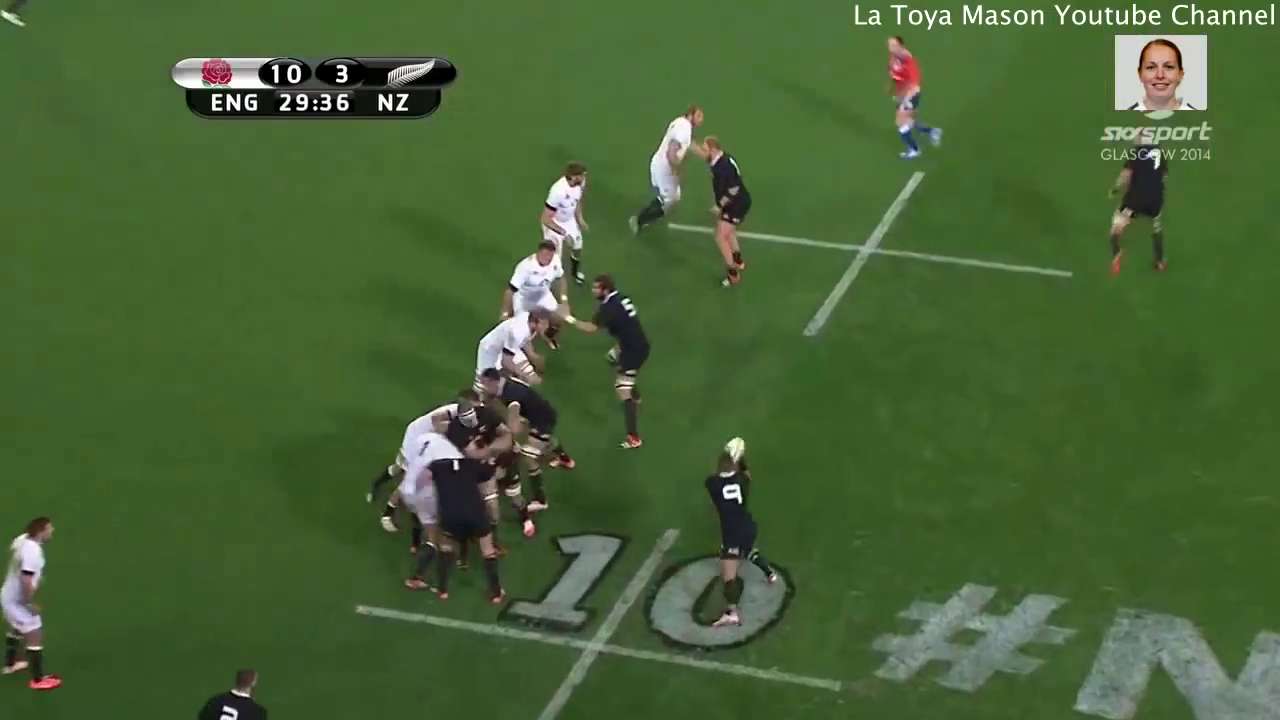10_metre: (346, 523, 851, 720), (651, 159, 1089, 350)
ball: (716, 429, 749, 469)
player: (697, 428, 787, 631), (469, 364, 576, 526), (448, 398, 541, 540), (417, 457, 505, 607), (585, 269, 654, 457), (623, 97, 711, 244), (1, 509, 69, 699), (394, 417, 462, 606), (1098, 132, 1179, 279), (362, 398, 464, 507), (871, 28, 950, 166), (694, 135, 760, 292), (532, 152, 600, 295), (496, 234, 568, 348), (465, 300, 550, 392), (189, 661, 277, 720)
